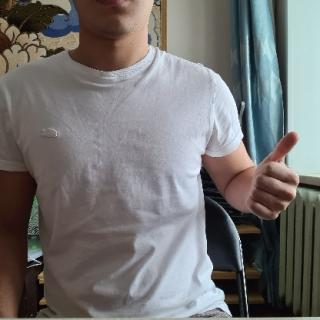ALIF: (243, 131, 305, 223)
